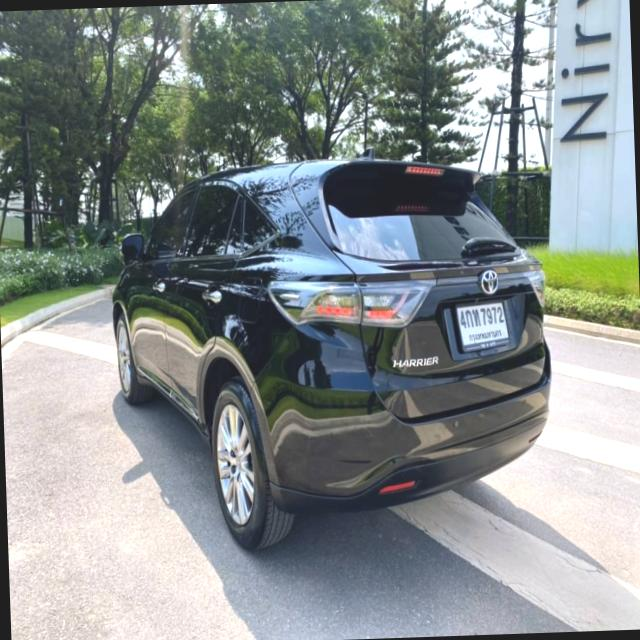license_plate: (451, 298, 512, 355)
